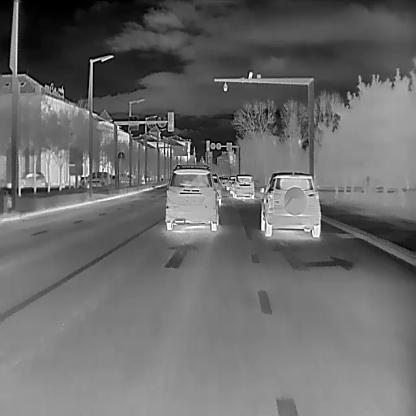car: (258, 172, 320, 236), (165, 162, 220, 230), (79, 171, 114, 187), (232, 174, 254, 199), (19, 172, 47, 186), (211, 171, 221, 205), (226, 174, 235, 191), (220, 175, 228, 187)
